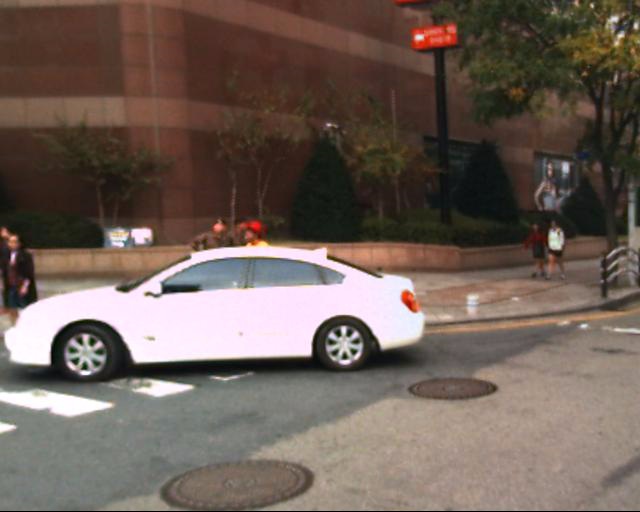person: (164, 204, 232, 317), (236, 216, 292, 344), (540, 212, 576, 286), (516, 214, 552, 286)
